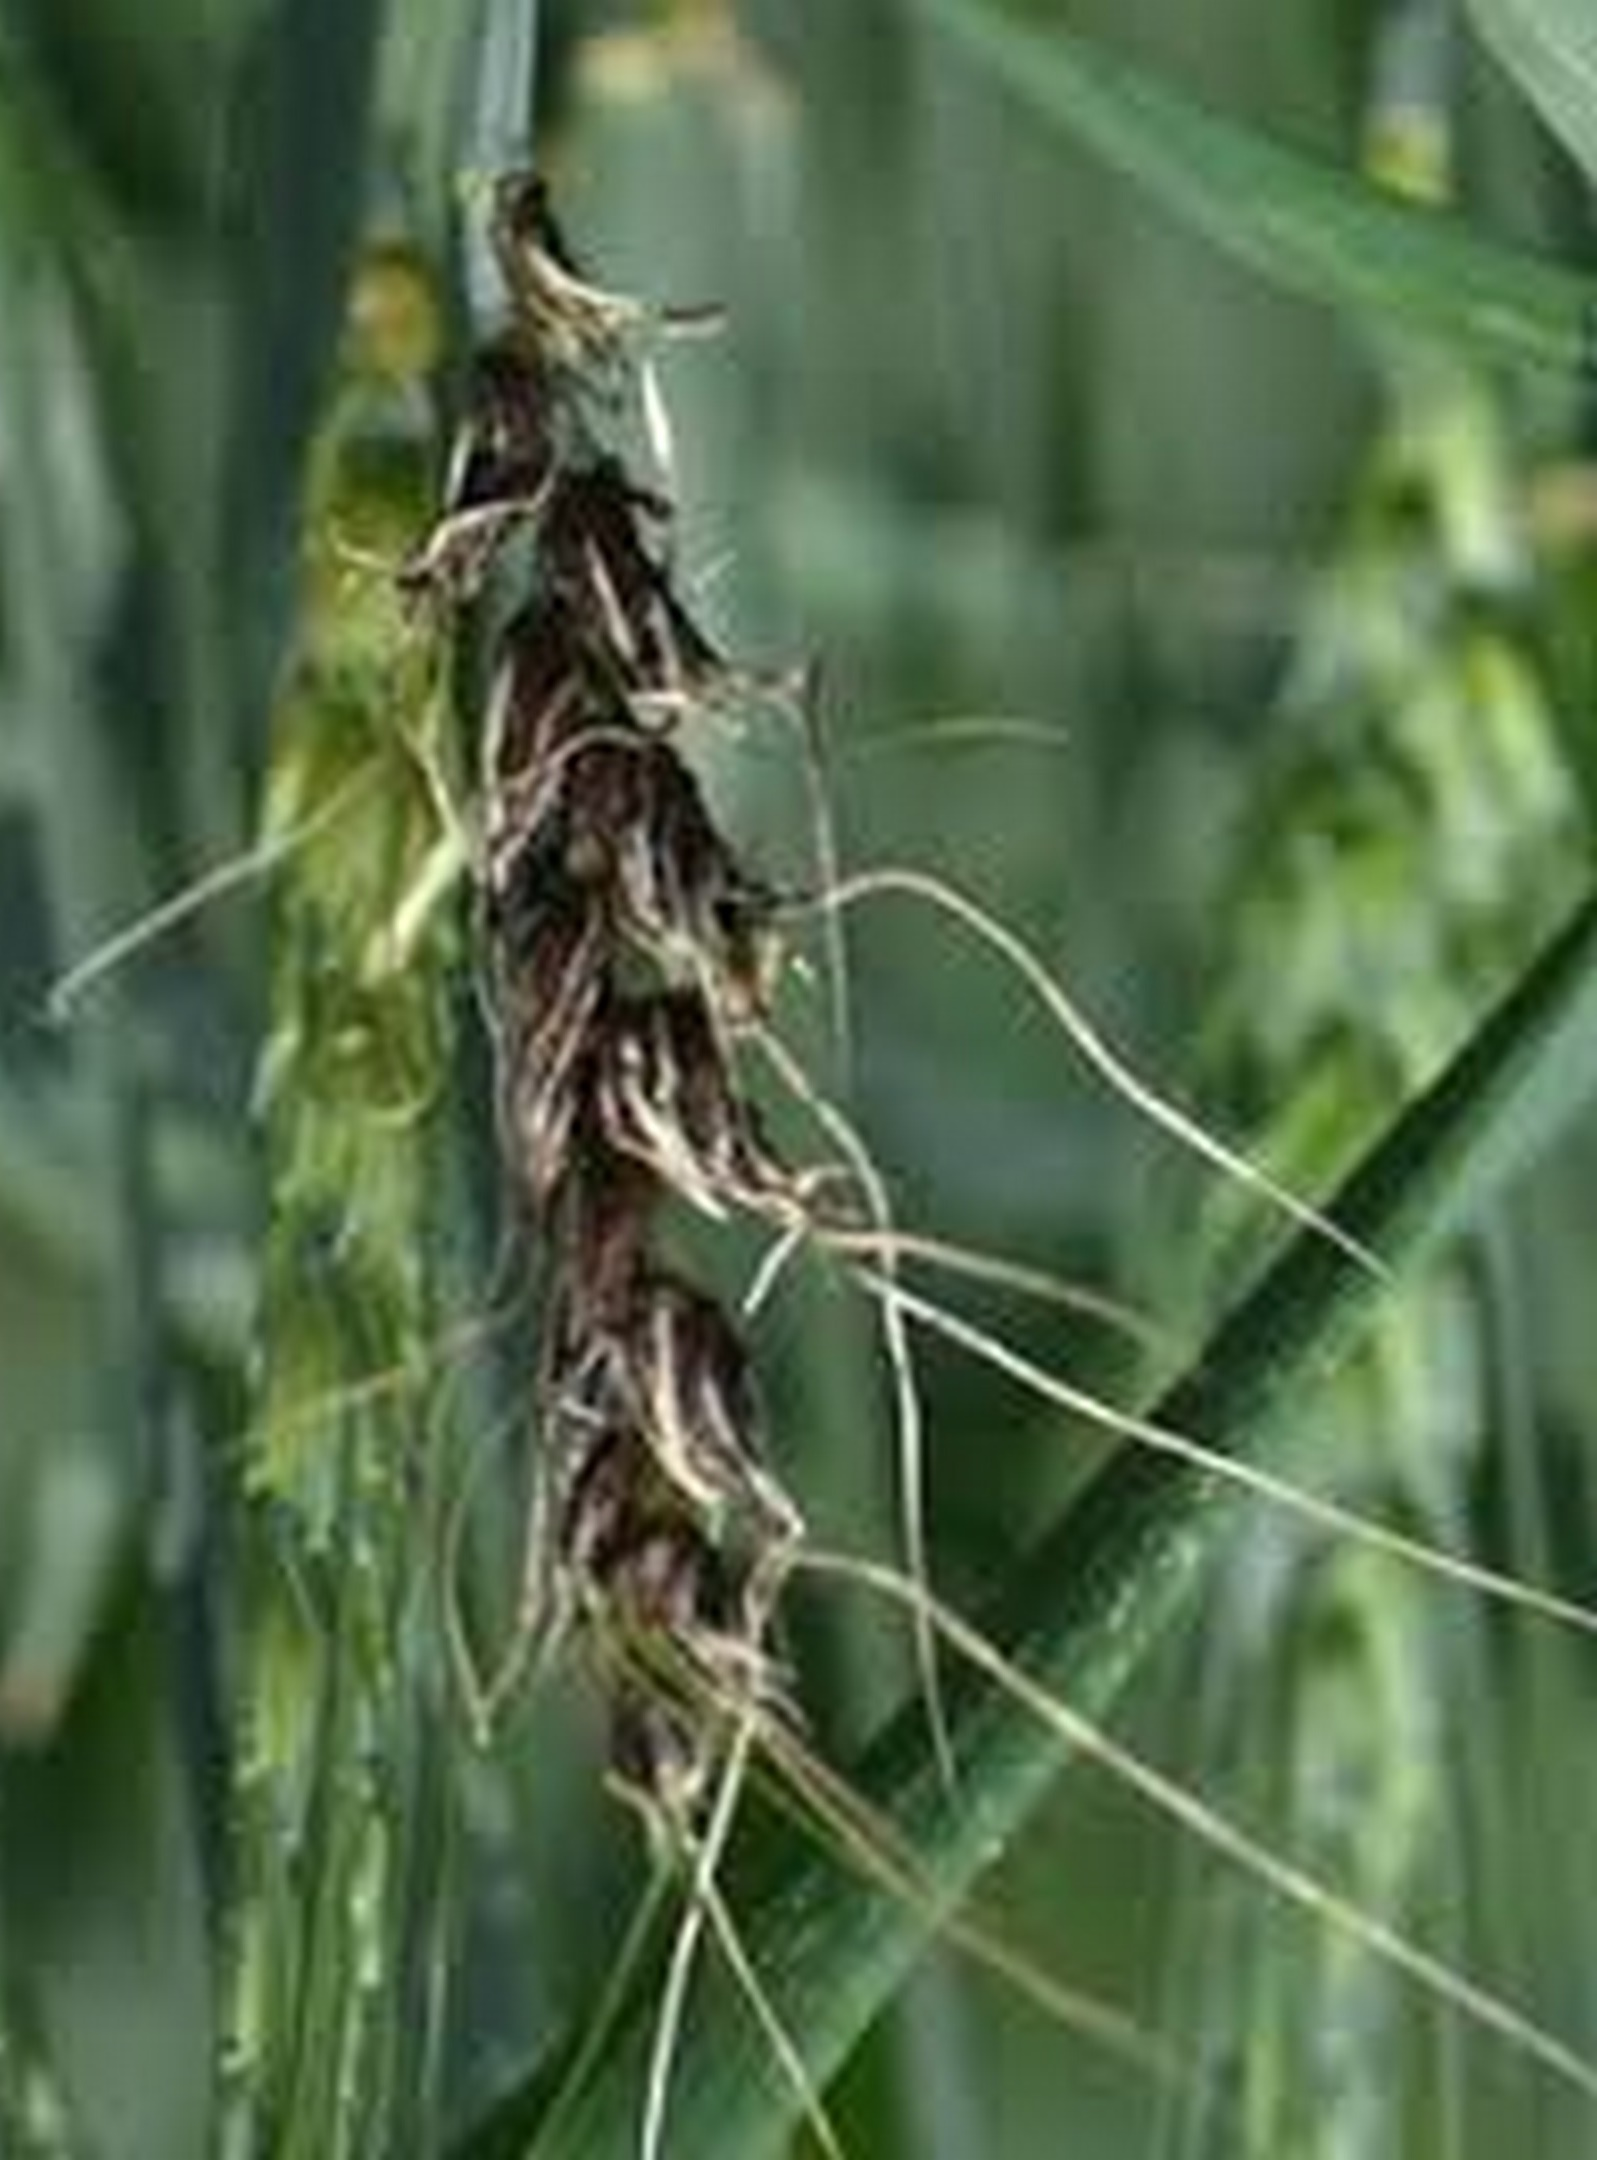Wheat Loose Smut: (455, 257, 869, 1845)
